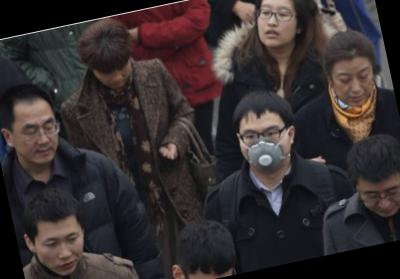with_mask: (235, 118, 296, 177)
without_mask: (10, 111, 65, 169), (34, 224, 91, 279), (328, 61, 379, 110), (355, 175, 400, 224), (96, 60, 135, 92)
